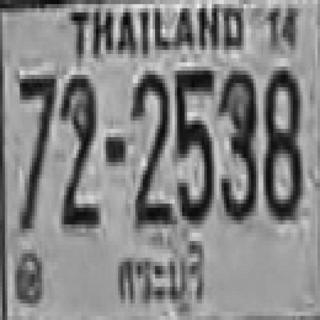N02: (59, 71, 101, 226), (130, 69, 172, 223)
N03: (217, 68, 258, 222)
N05: (173, 66, 216, 224)
N07: (17, 70, 54, 228)
N08: (261, 66, 303, 220)
P19: (111, 236, 207, 317)
